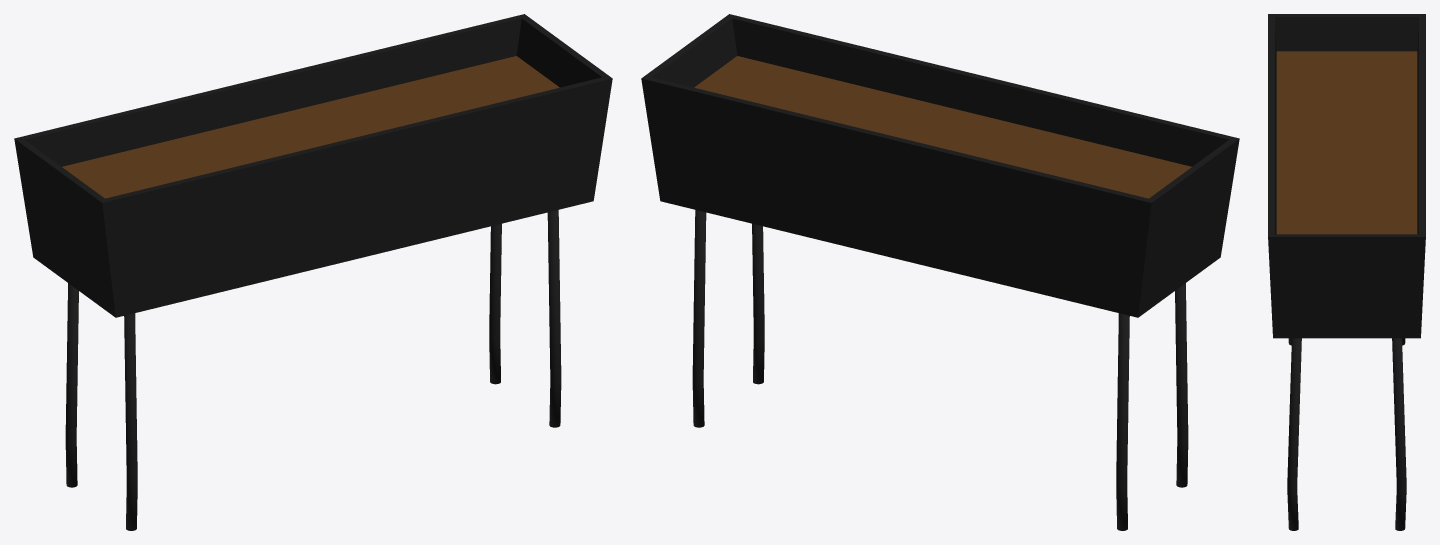
Rendered from Jardinera_CoworkingTorreA.fbx.
3 renders of one model, left to right at view 1: azimuth 30°, elevation 25°; view 2: azimuth 150°, elevation 25°; view 3: azimuth 270°, elevation 25°, orthographic. The views are drawn at different scales.
Visible parts, largest first — view 1: Jardinera; view 2: Jardinera; view 3: Jardinera.
Boxes of the visible parts, x1,y1,x2,y2 form: Jardinera: (14,14,612,530); Jardinera: (641,14,1239,530); Jardinera: (1268,14,1425,530).
Size of the model in its own units: 107 by 69.54 by 32.03.
